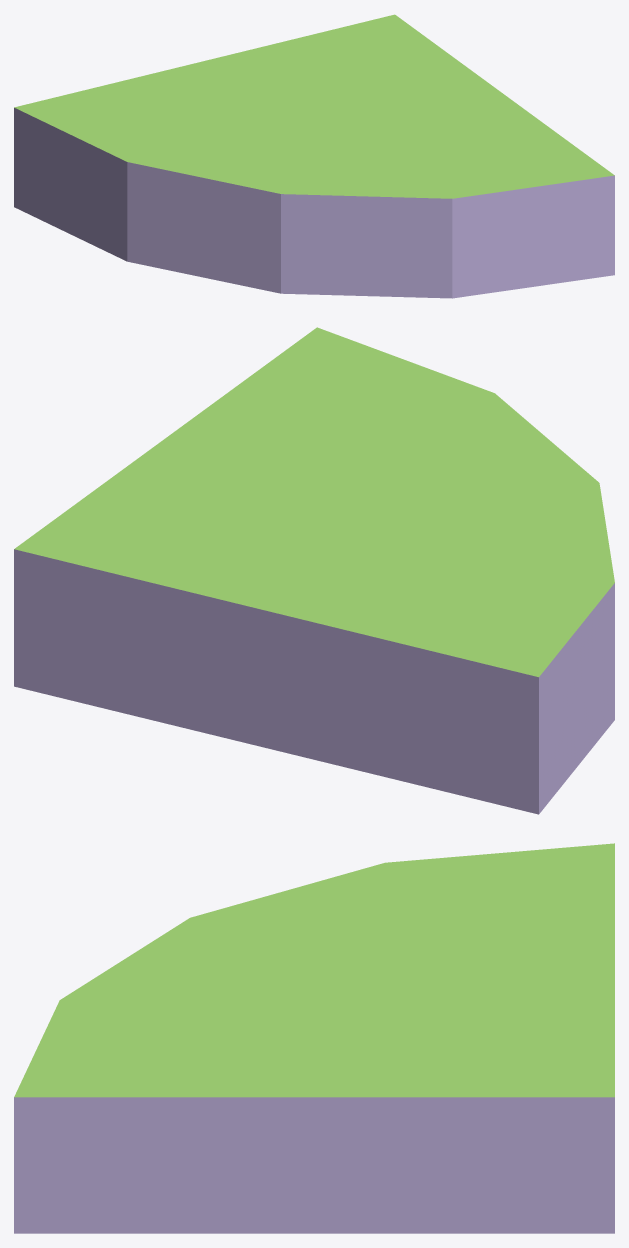
Rendered from Tiered_Grass_Curve_Outer_1x1.glb.
3 views of the same model, one above another, from view 1: azimuth 30°, elevation 25°; view 2: azimuth 150°, elevation 25°; view 3: azimuth 270°, elevation 25° (orthographic). The views are drawn at different scales.
Visible parts, largest first — view 1: Tiered_Grass_Curve_Outer_1x1; view 2: Tiered_Grass_Curve_Outer_1x1; view 3: Tiered_Grass_Curve_Outer_1x1.
Part boxes in pixels (box(x1,y1,x2,y2)): Tiered_Grass_Curve_Outer_1x1: box(14, 14, 614, 298); Tiered_Grass_Curve_Outer_1x1: box(14, 327, 614, 814); Tiered_Grass_Curve_Outer_1x1: box(14, 843, 614, 1233).
Size of the model in its own units: 100 by 25 by 100.
